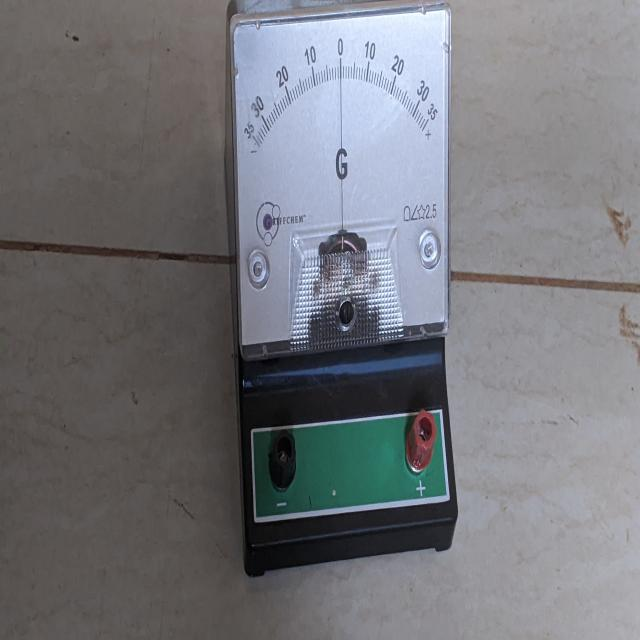Galvanometer: (215, 3, 467, 591)
